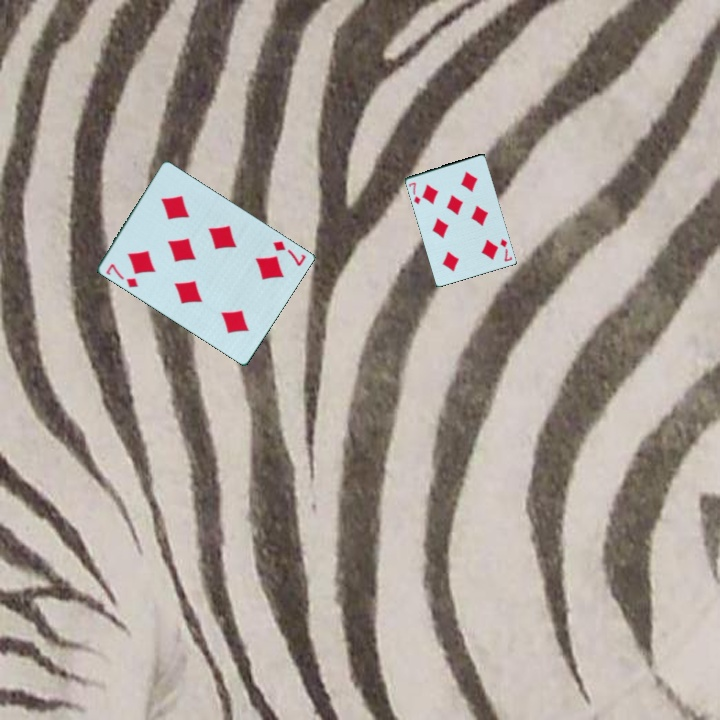7d: (269, 237, 308, 269), (102, 260, 141, 291), (496, 235, 515, 264), (405, 179, 423, 207)
